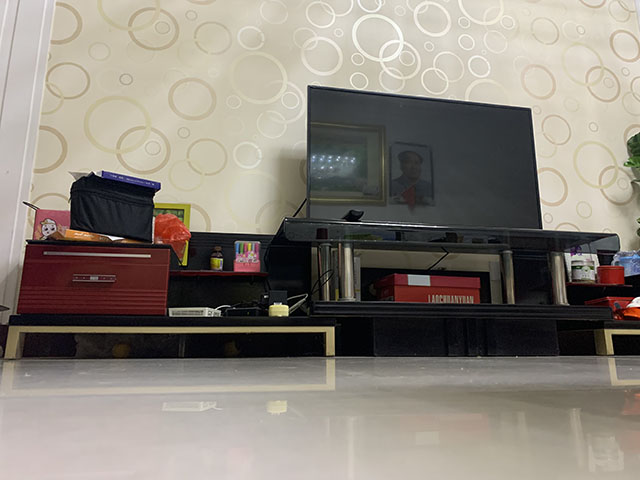cabinet: (3, 170, 640, 361)
